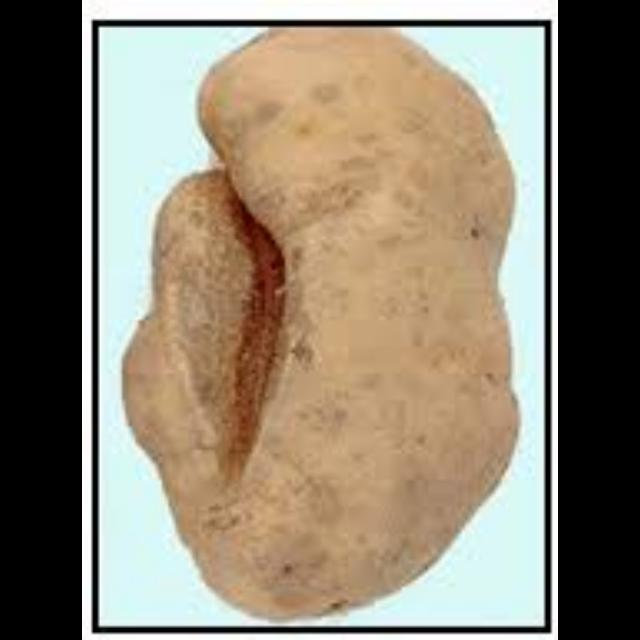Damaged potato: (108, 32, 534, 614)
